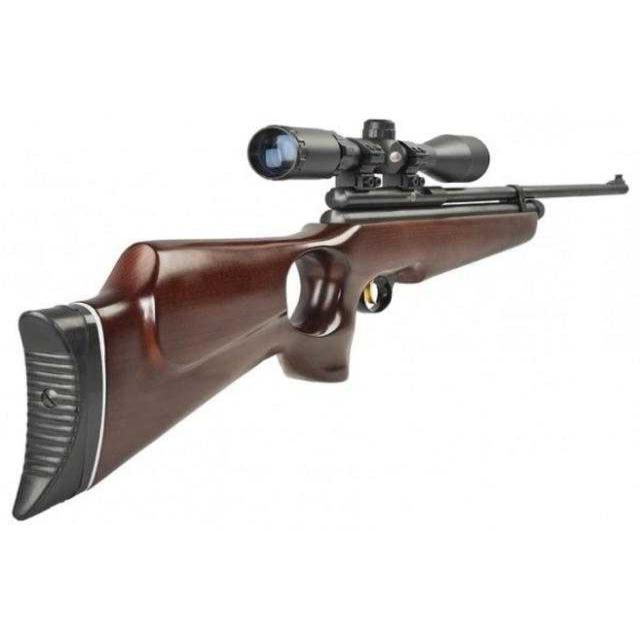heavyweapon: (2, 87, 607, 533)
